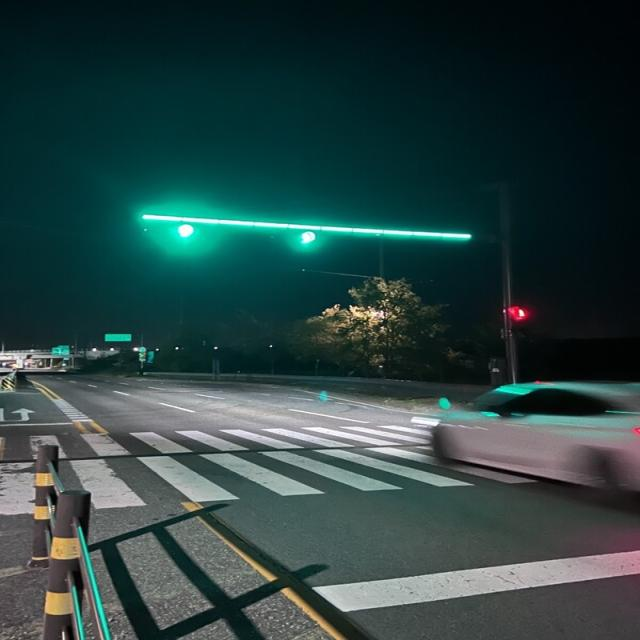Green_light: (140, 218, 217, 243), (280, 231, 338, 251)
